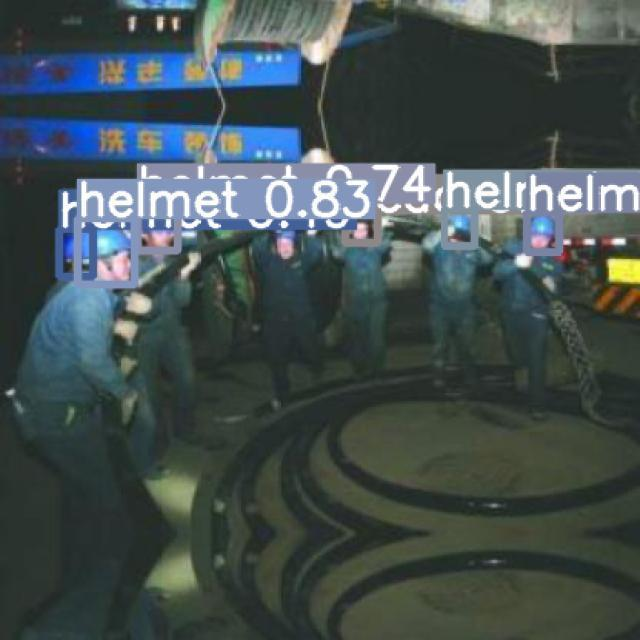blue helmet: (80, 211, 147, 279), (130, 207, 194, 240), (50, 230, 91, 273), (527, 206, 563, 250), (438, 206, 482, 237), (277, 215, 307, 246)
